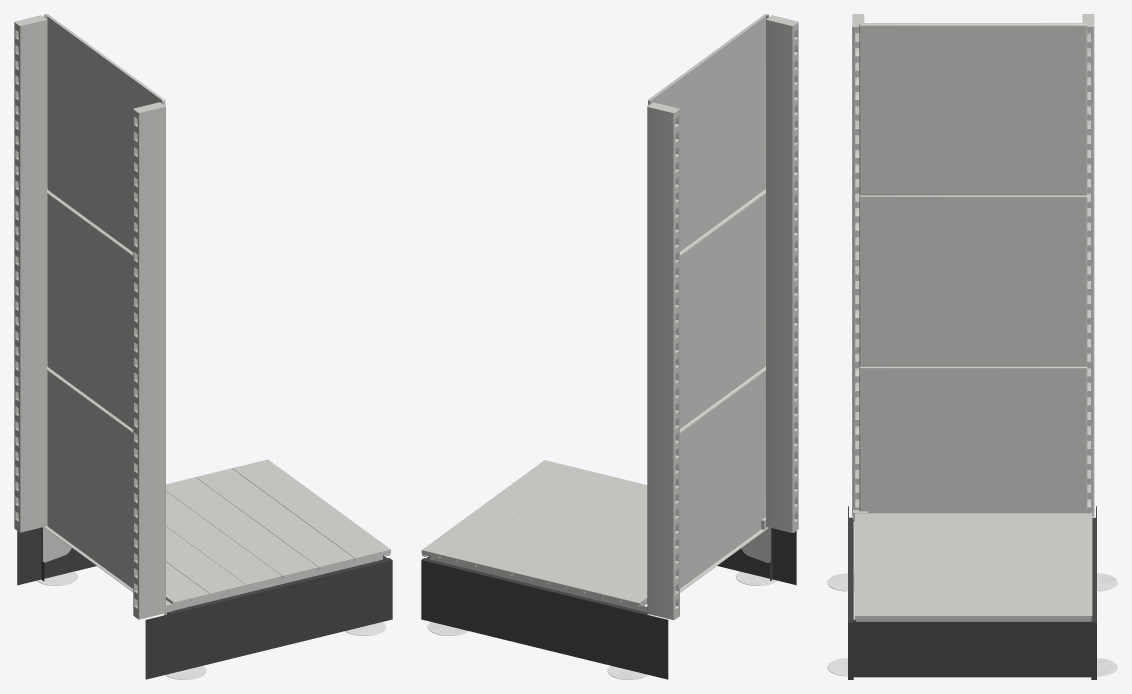
The model's file is ShelvesBase04.fbx.
The picture shows the model from 3 angles, left to right: view 1: azimuth 30°, elevation 25°; view 2: azimuth 150°, elevation 25°; view 3: azimuth 270°, elevation 25°; orthographic projection. The views are drawn at different scales.
Parts seen in each view (by area): view 1: ShelvesBase04; view 2: ShelvesBase04; view 3: ShelvesBase04.
Part boxes in pixels (x1,y1,x2,y2): ShelvesBase04: [14, 14, 392, 679]; ShelvesBase04: [421, 14, 798, 679]; ShelvesBase04: [827, 14, 1117, 679].
Size of what is drawn, in the model's own units: 73.77 by 75.76 by 159.
3 materials, 1 textured.
